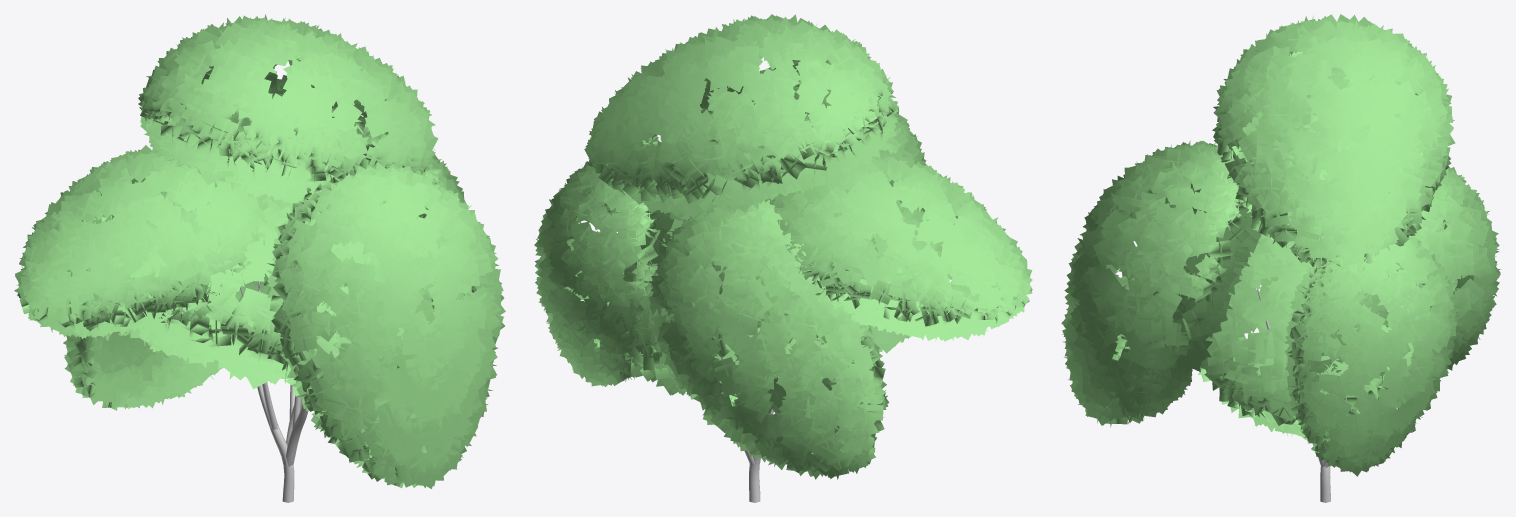
Rendered from StandarTree_3.fbx.
3 views of the same model, side by side, from view 1: azimuth 30°, elevation 25°; view 2: azimuth 150°, elevation 25°; view 3: azimuth 270°, elevation 25° (orthographic). The views are drawn at different scales.
Visible parts, largest first — view 1: Leave.001, Leave.003, Leave.002, Leave.006, Leave.005, tree, Leave.004; view 2: Leave.003, Leave.005, Leave.002, Leave.004, Leave.006, Leave.001, tree; view 3: Leave.003, Leave.001, Leave.004, Leave.006, Leave.005, tree.
Part boxes in pixels (x1,y1,x2,y2): Leave.001: [266, 161, 505, 488]; Leave.003: [138, 14, 438, 203]; Leave.002: [14, 145, 267, 338]; Leave.006: [88, 181, 432, 396]; Leave.005: [63, 181, 271, 410]; tree: [240, 281, 308, 502]; Leave.004: [344, 127, 466, 308]; Leave.003: [584, 14, 898, 219]; Leave.005: [647, 198, 889, 479]; Leave.002: [769, 149, 1032, 341]; Leave.004: [534, 161, 674, 386]; Leave.006: [623, 188, 943, 395]; Leave.001: [709, 67, 926, 168]; tree: [724, 395, 773, 502]; Leave.003: [1212, 14, 1455, 272]; Leave.001: [1061, 140, 1261, 427]; Leave.004: [1284, 236, 1458, 476]; Leave.006: [1177, 185, 1457, 439]; Leave.005: [1377, 163, 1501, 370]; tree: [1257, 289, 1330, 502].
Bounding box in the file's own units: 834 × 827 × 716.
